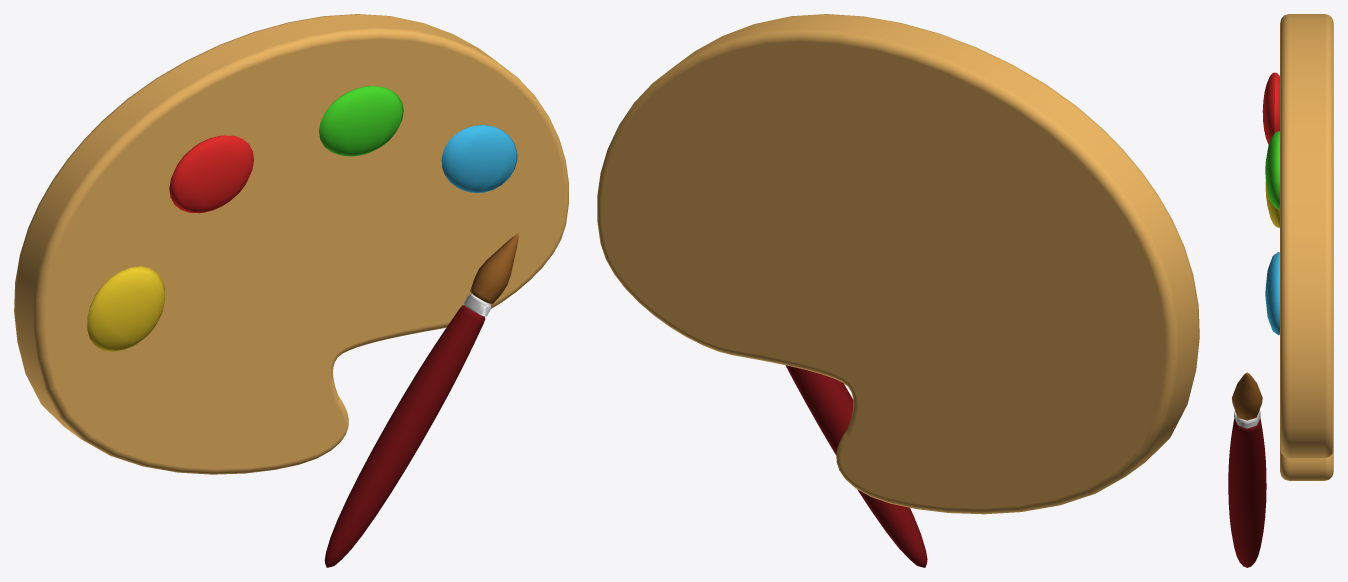
The model's file is palette.glb.
The picture shows the model from 3 angles, left to right: view 1: azimuth 30°, elevation 25°; view 2: azimuth 150°, elevation 25°; view 3: azimuth 270°, elevation 25°; orthographic projection. The views are drawn at different scales.
Parts seen in each view (by area): view 1: Shape 2; view 2: Shape 2; view 3: Shape 2.
Part boxes in pixels (x1,y1,x2,y2): Shape 2: [14, 14, 568, 567]; Shape 2: [597, 14, 1199, 567]; Shape 2: [1228, 14, 1333, 567].
Bounding box in the file's own units: 1.66 × 1.53 × 0.2852.
